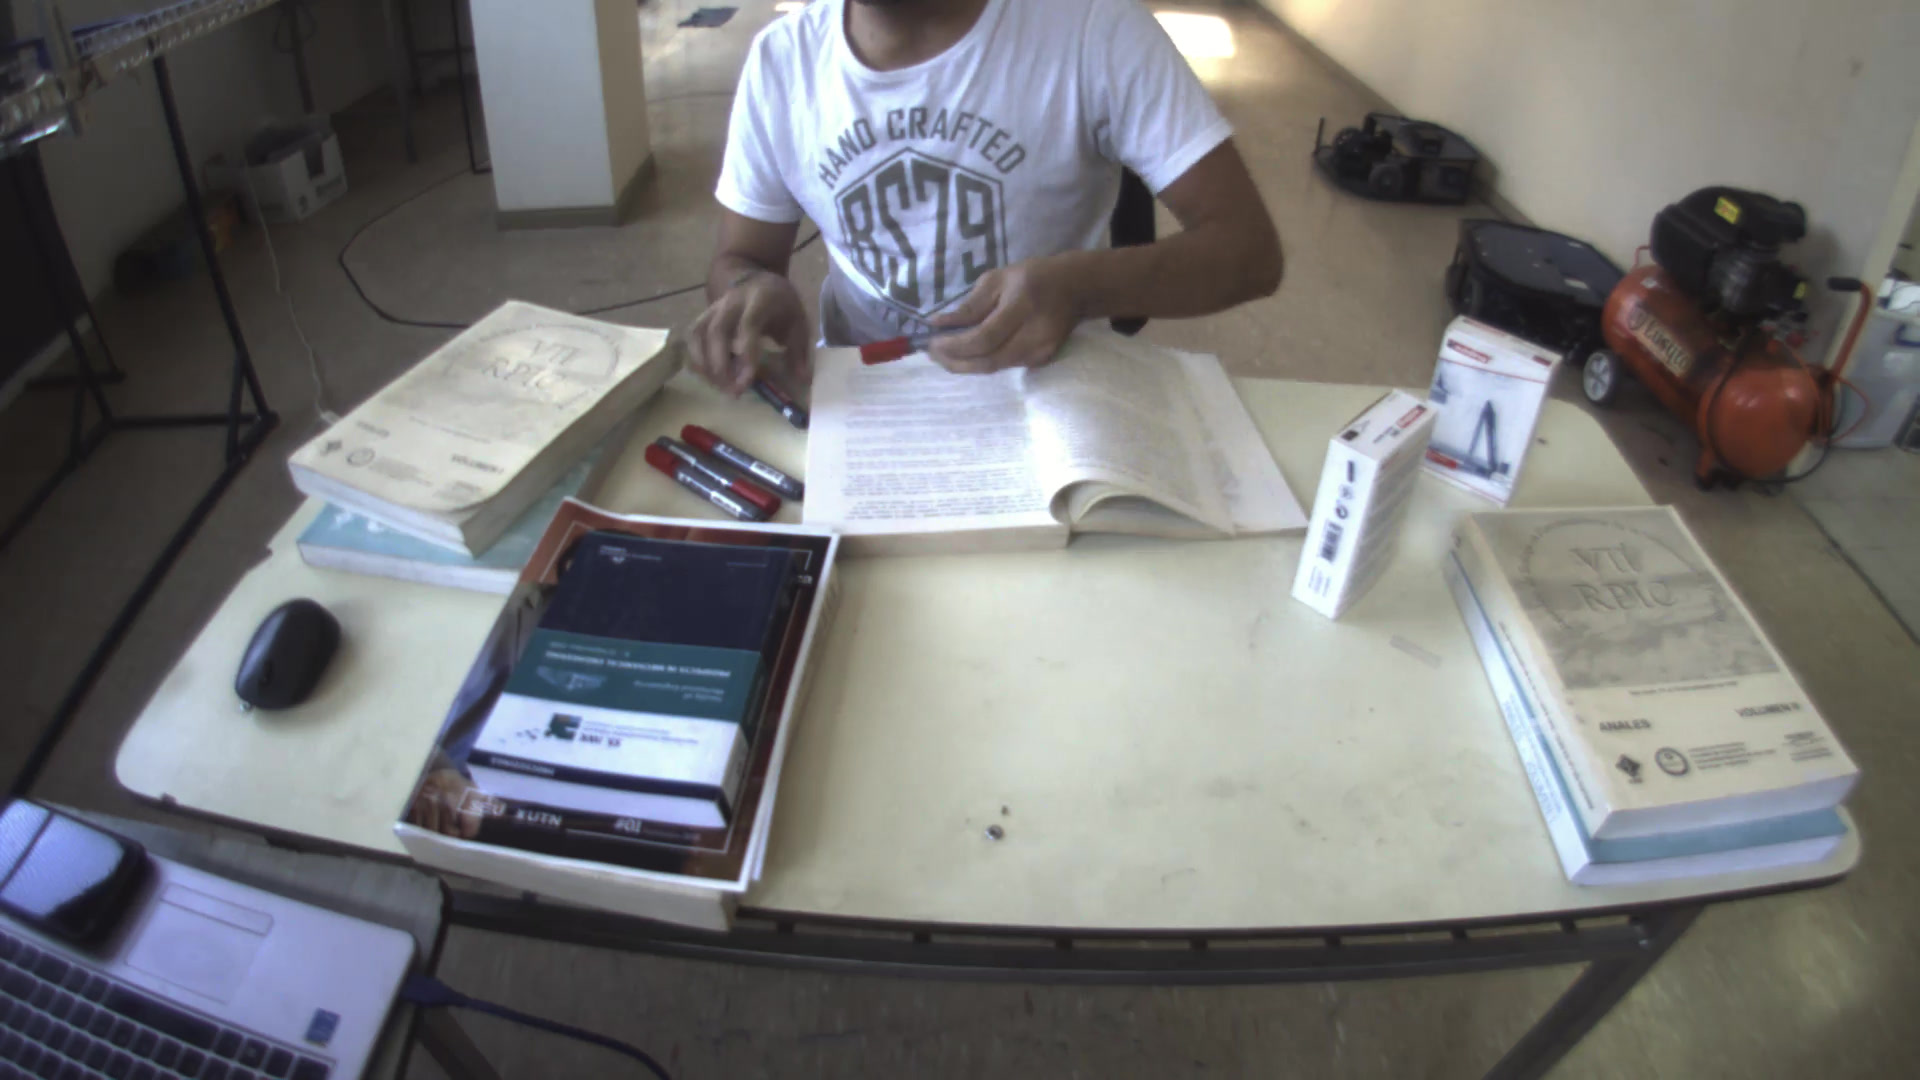hand: (909, 233, 1116, 376), (667, 256, 814, 392)
